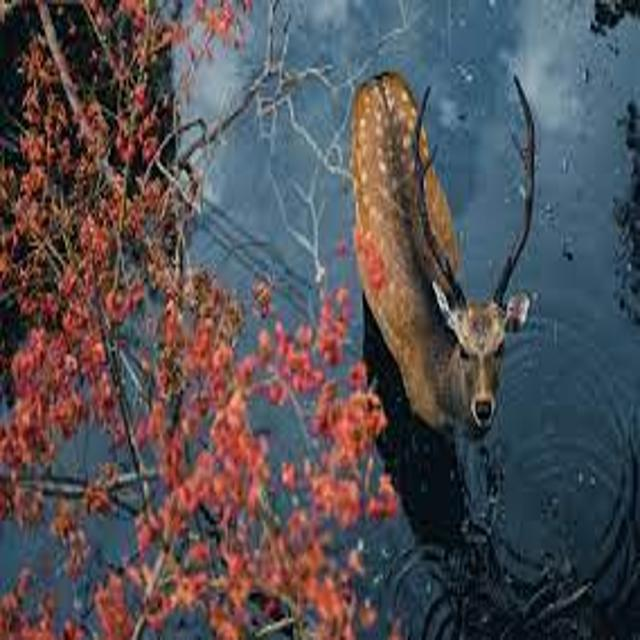deer: (317, 39, 580, 483)
